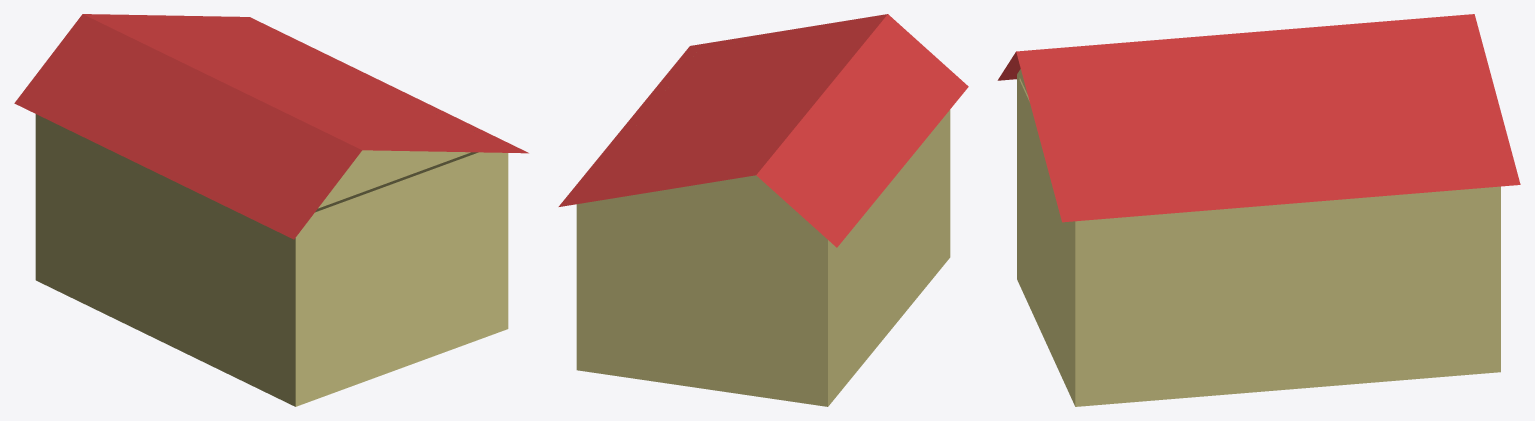
3 views of the same model, side by side, from view 1: azimuth 30°, elevation 25°; view 2: azimuth 150°, elevation 25°; view 3: azimuth 270°, elevation 25° (orthographic). The views are drawn at different scales.
Bounding box in the file's own units: 12.67 × 15.65 × 8.69.
